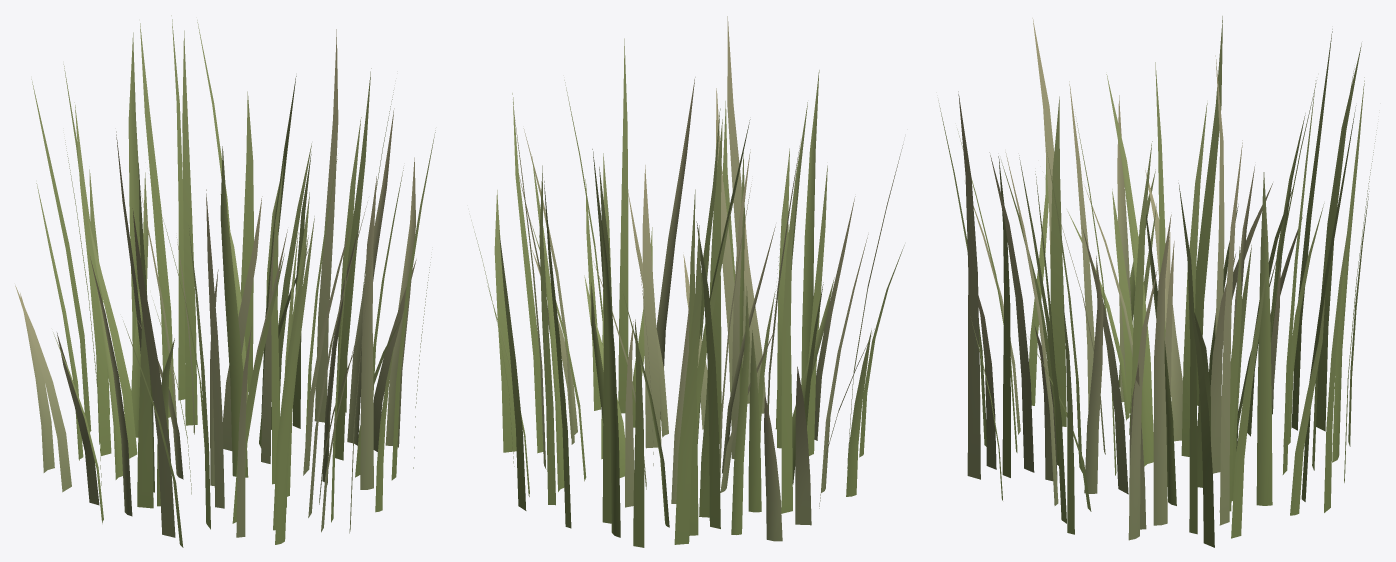
The model's file is grass-tuft-b.glb.
3 views of the same model, side by side, from view 1: azimuth 30°, elevation 25°; view 2: azimuth 150°, elevation 25°; view 3: azimuth 270°, elevation 25° (orthographic). The views are drawn at different scales.
Visible parts, largest first — view 1: grass-tuft-b_LOD0; view 2: grass-tuft-b_LOD0; view 3: grass-tuft-b_LOD0.
Boxes of the visible parts, bbox=[...] form: grass-tuft-b_LOD0: bbox=[15, 15, 435, 547]; grass-tuft-b_LOD0: bbox=[471, 16, 904, 547]; grass-tuft-b_LOD0: bbox=[938, 16, 1376, 547].
Size of what is drawn, in the model's own units: 1 by 1 by 1.
